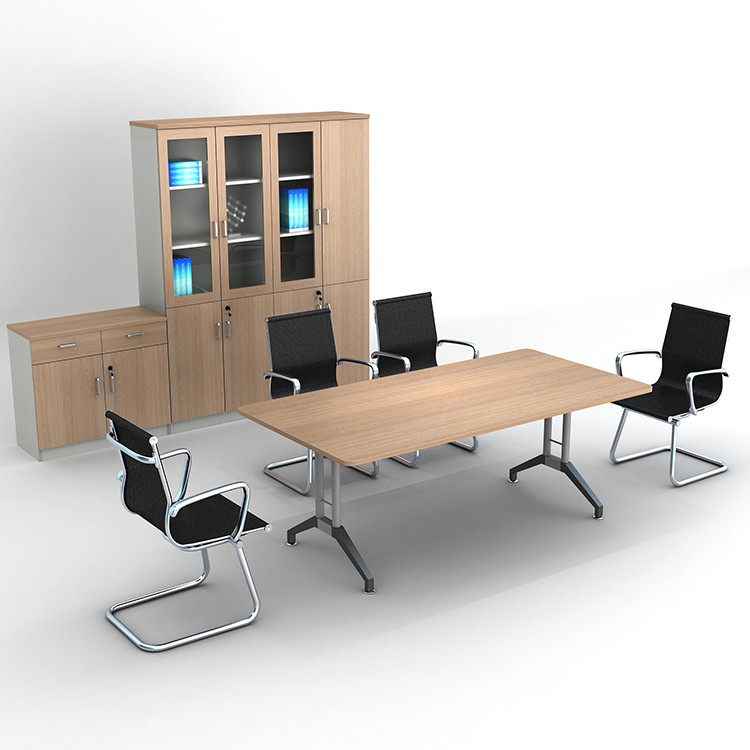conference_table: (239, 348, 653, 595)
